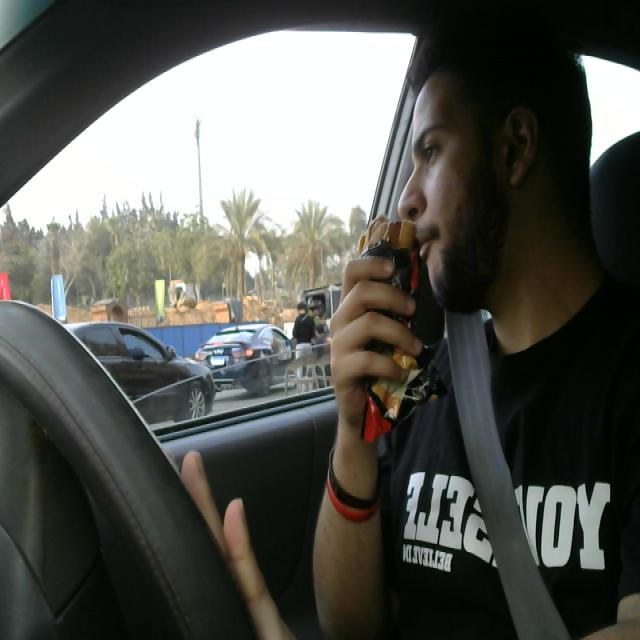eating: (344, 208, 436, 451)
